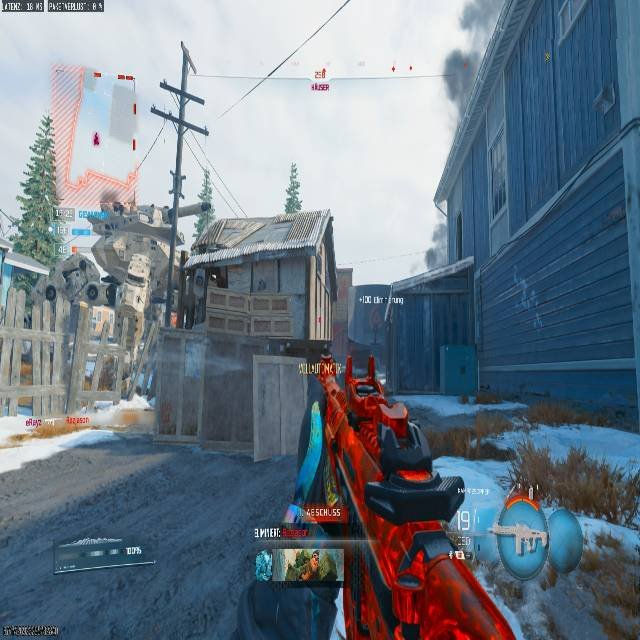head: (69, 240, 79, 254)
